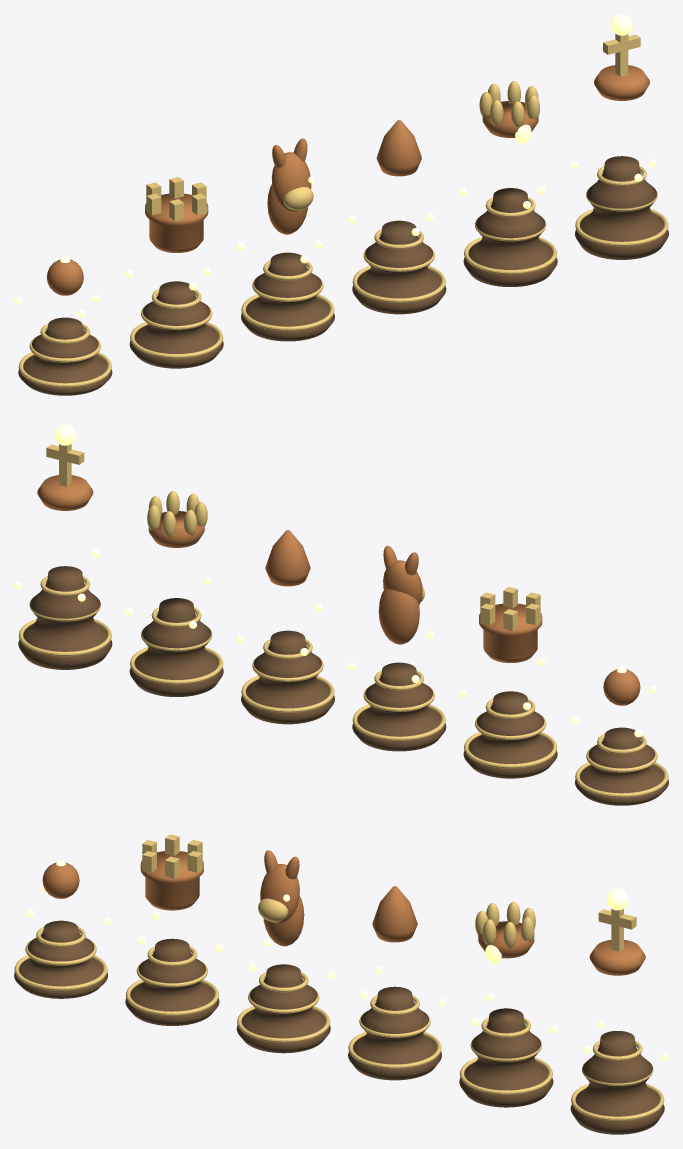
File: 03_Medieval_Fantasia_6_Piezas.glb
3 renders of one model, top to bottom at view 1: azimuth 30°, elevation 25°; view 2: azimuth 150°, elevation 25°; view 3: azimuth 330°, elevation 25°, orthographic.
Parts seen in each view (by area): view 1: 03_Medieval_Fantasia_Torre, 03_Medieval_Fantasia_Rey, 03_Medieval_Fantasia_Caballo, 03_Medieval_Fantasia_Reina, 03_Medieval_Fantasia_Alfil, 03_Medieval_Fantasia_Peon; view 2: 03_Medieval_Fantasia_Torre, 03_Medieval_Fantasia_Rey, 03_Medieval_Fantasia_Caballo, 03_Medieval_Fantasia_Reina, 03_Medieval_Fantasia_Alfil, 03_Medieval_Fantasia_Peon; view 3: 03_Medieval_Fantasia_Torre, 03_Medieval_Fantasia_Rey, 03_Medieval_Fantasia_Reina, 03_Medieval_Fantasia_Caballo, 03_Medieval_Fantasia_Alfil, 03_Medieval_Fantasia_Peon.
Boxes of the visible parts, x1=… form: 03_Medieval_Fantasia_Torre: x1=125, y1=177, x2=223, y2=368; 03_Medieval_Fantasia_Rey: x1=570, y1=14, x2=668, y2=259; 03_Medieval_Fantasia_Caballo: x1=236, y1=138, x2=334, y2=341; 03_Medieval_Fantasia_Reina: x1=459, y1=81, x2=557, y2=286; 03_Medieval_Fantasia_Alfil: x1=348, y1=120, x2=446, y2=314; 03_Medieval_Fantasia_Peon: x1=14, y1=256, x2=112, y2=395; 03_Medieval_Fantasia_Torre: x1=459, y1=587, x2=557, y2=778; 03_Medieval_Fantasia_Rey: x1=14, y1=424, x2=112, y2=669; 03_Medieval_Fantasia_Caballo: x1=348, y1=545, x2=446, y2=751; 03_Medieval_Fantasia_Reina: x1=125, y1=491, x2=223, y2=696; 03_Medieval_Fantasia_Alfil: x1=236, y1=530, x2=334, y2=724; 03_Medieval_Fantasia_Peon: x1=570, y1=666, x2=668, y2=805; 03_Medieval_Fantasia_Torre: x1=125, y1=834, x2=223, y2=1025; 03_Medieval_Fantasia_Rey: x1=570, y1=889, x2=668, y2=1134; 03_Medieval_Fantasia_Reina: x1=459, y1=901, x2=557, y2=1107; 03_Medieval_Fantasia_Caballo: x1=236, y1=850, x2=334, y2=1053; 03_Medieval_Fantasia_Alfil: x1=348, y1=886, x2=446, y2=1080; 03_Medieval_Fantasia_Peon: x1=14, y1=860, x2=112, y2=998.
Size of the model in its own units: 8.16 by 2.77 by 1.09.
